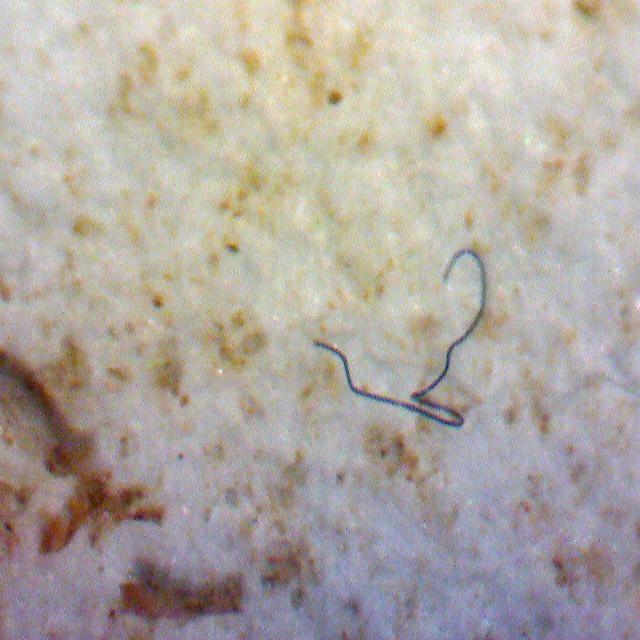microplastic: (312, 245, 487, 427)
